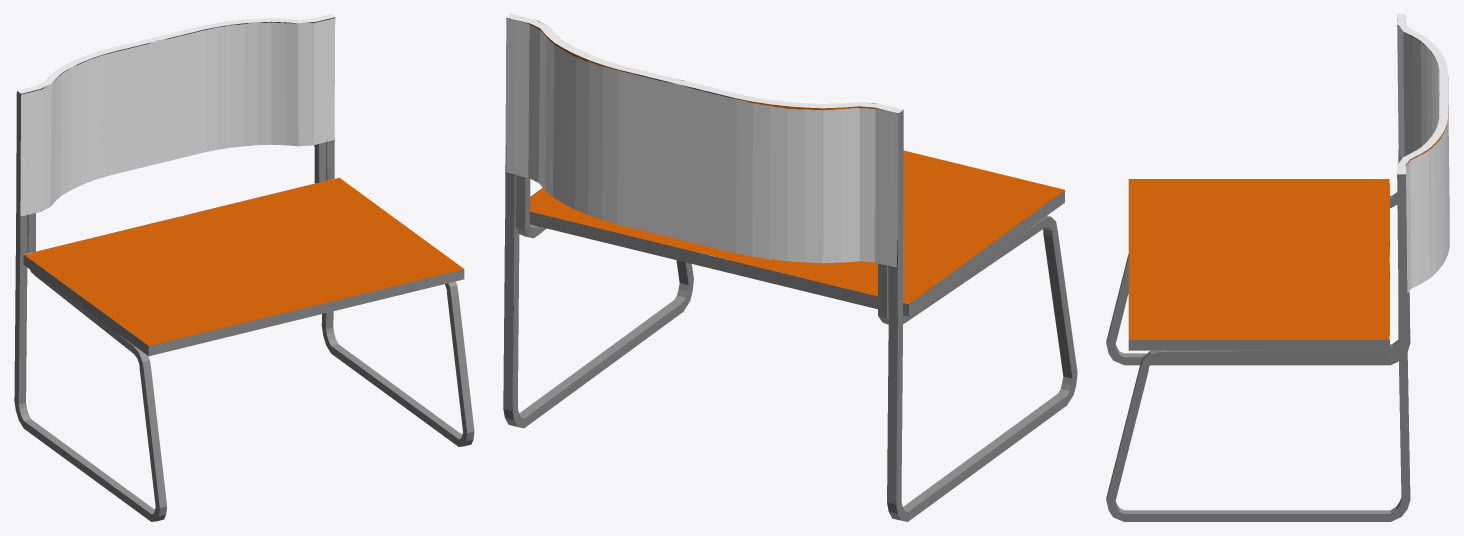
File: char2.fbx
The picture shows the model from 3 angles, left to right: view 1: azimuth 30°, elevation 25°; view 2: azimuth 150°, elevation 25°; view 3: azimuth 270°, elevation 25°; orthographic projection. The views are drawn at different scales.
Visible parts, largest first — view 1: Cube; view 2: Cube; view 3: Cube.
Boxes of the visible parts, x1,y1,x2,y2 form: Cube: (14, 14, 474, 521); Cube: (503, 14, 1077, 521); Cube: (1106, 14, 1449, 521).
Bounding box in the file's own units: 257 × 259 × 232.
